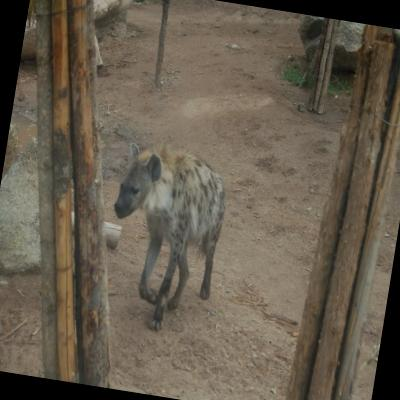hyenas: (90, 132, 233, 360)
